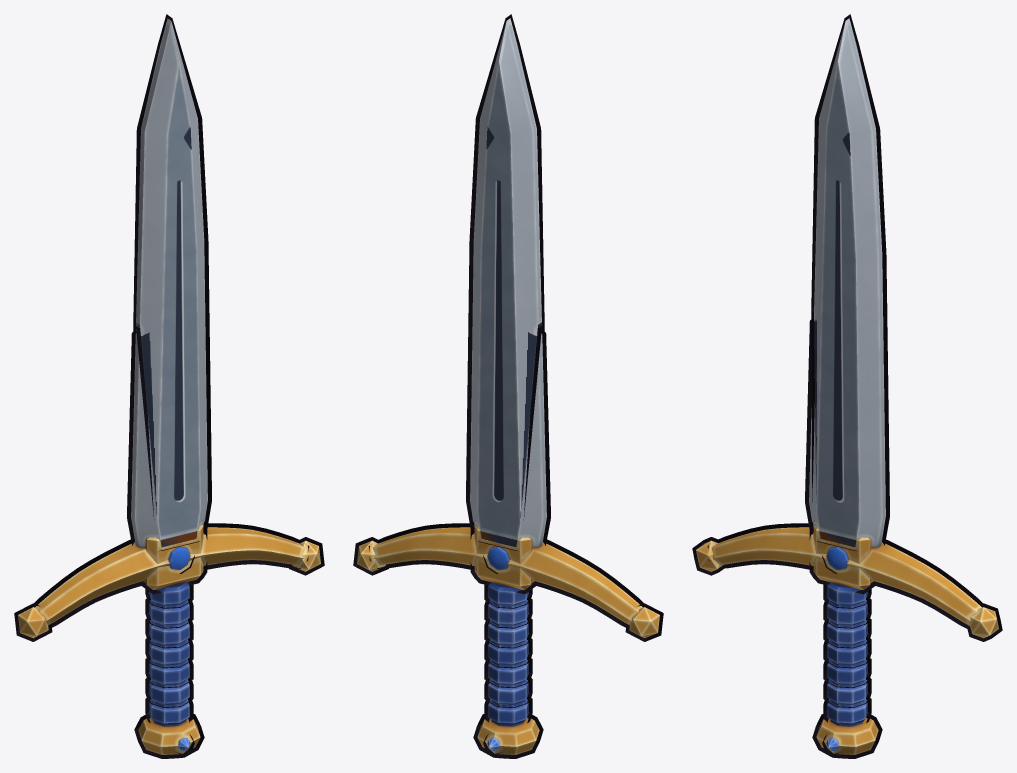
Rendered from KnightSword.fbx.
3 renders of one model, left to right at view 1: azimuth 30°, elevation 25°; view 2: azimuth 150°, elevation 25°; view 3: azimuth 330°, elevation 25°, orthographic.
Visible parts, largest first — view 1: KnightSword, KnightSwordOutline; view 2: KnightSword, KnightSwordOutline; view 3: KnightSword, KnightSwordOutline.
Boxes of the visible parts, bbox=[...] form: KnightSword: bbox=[18, 18, 320, 754]; KnightSwordOutline: bbox=[14, 14, 324, 758]; KnightSword: bbox=[357, 18, 659, 754]; KnightSwordOutline: bbox=[353, 14, 663, 758]; KnightSword: bbox=[696, 18, 998, 754]; KnightSwordOutline: bbox=[692, 14, 1002, 758].
Size of the model in its own units: 184 by 425 by 44.4.
Materials: 2 (1 with a texture image).
